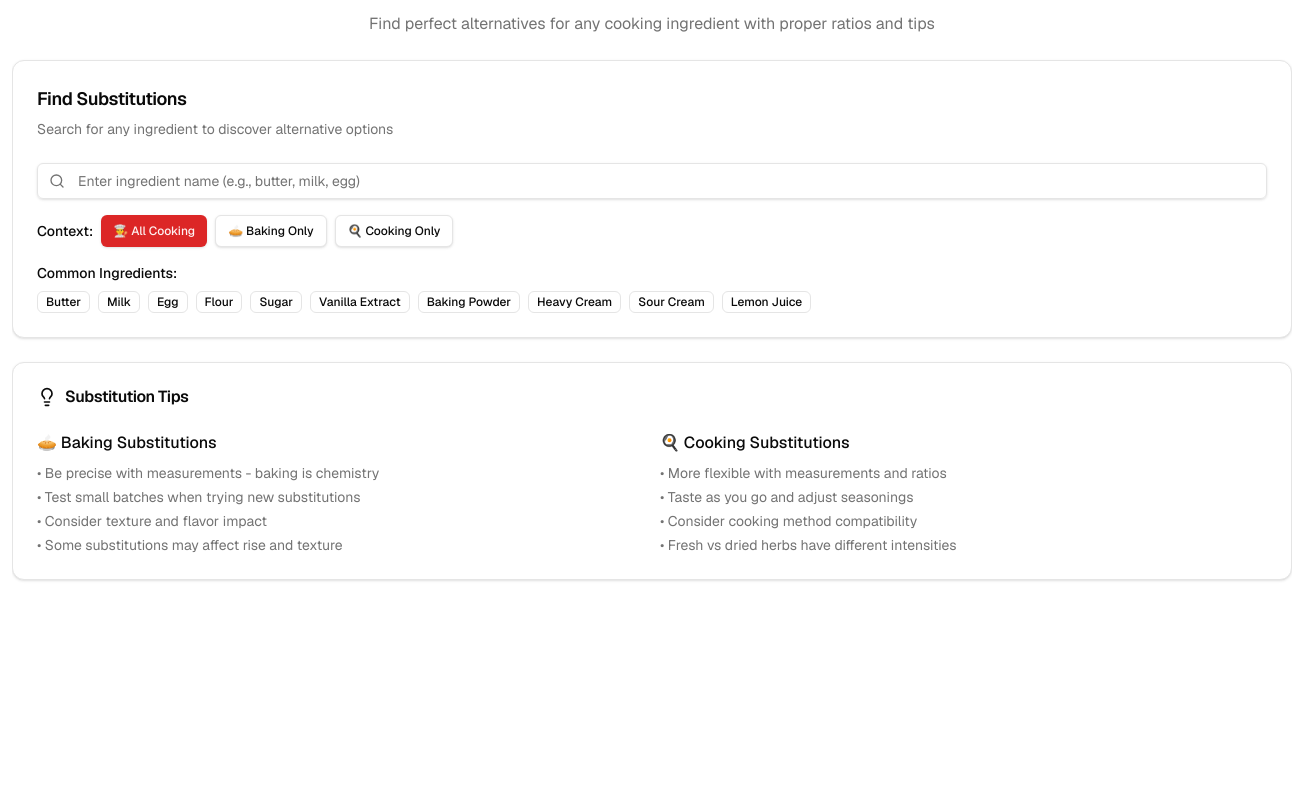
Test: SubstitutionWizard › No Results State › should show no results message when no substitutions found
This screenshot has width=1292, height=812.
Type "rareingredient" into the field with placeholder "Enter ingredient name (e.g., butter, milk, egg)" at (652, 181), box [37,163,1267,199]
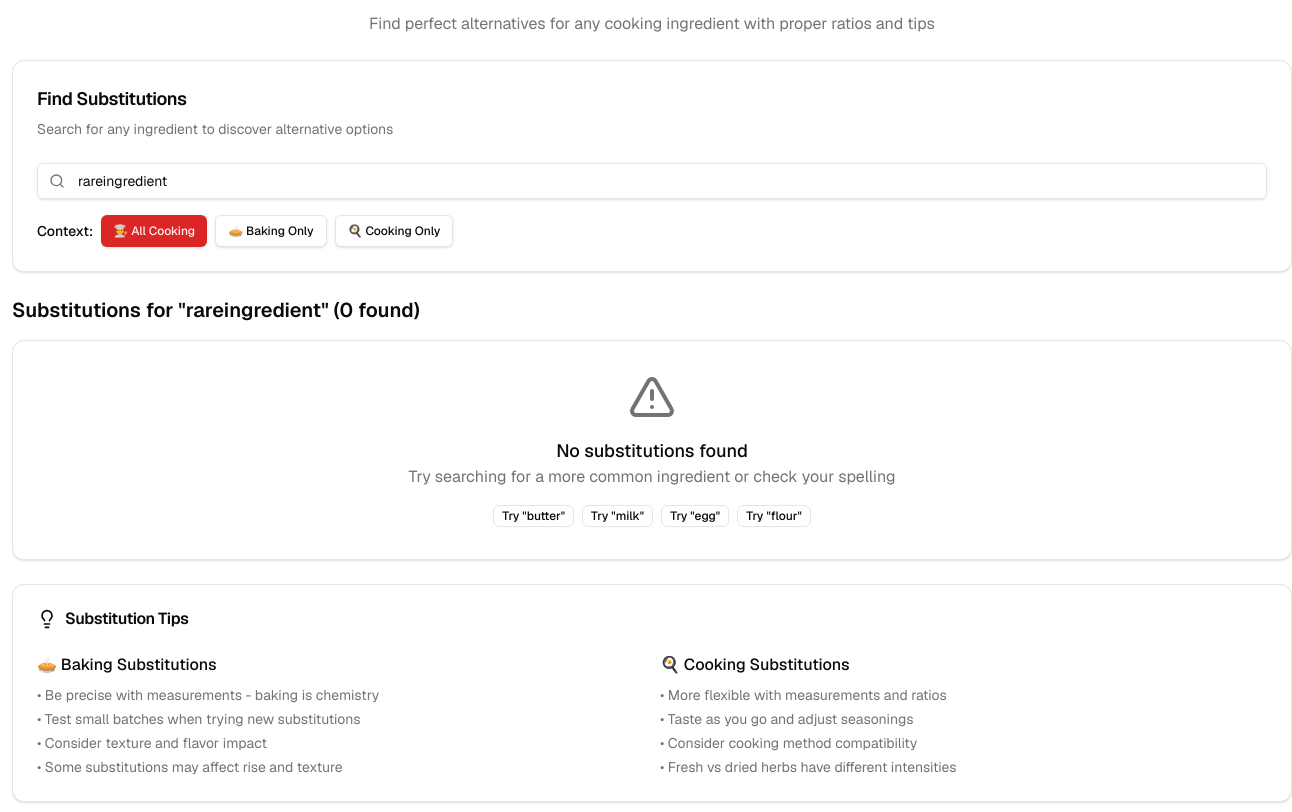
Now the text "No substitutions found" is shown, box [556,439,748,462]
Now the text "Try searching for a more common ingredient" is shown, box [408,466,896,487]
